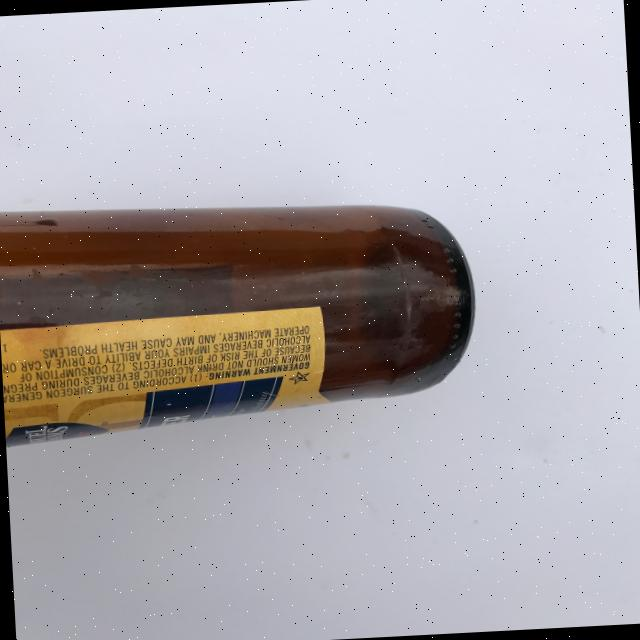glass: (0, 183, 490, 445)
